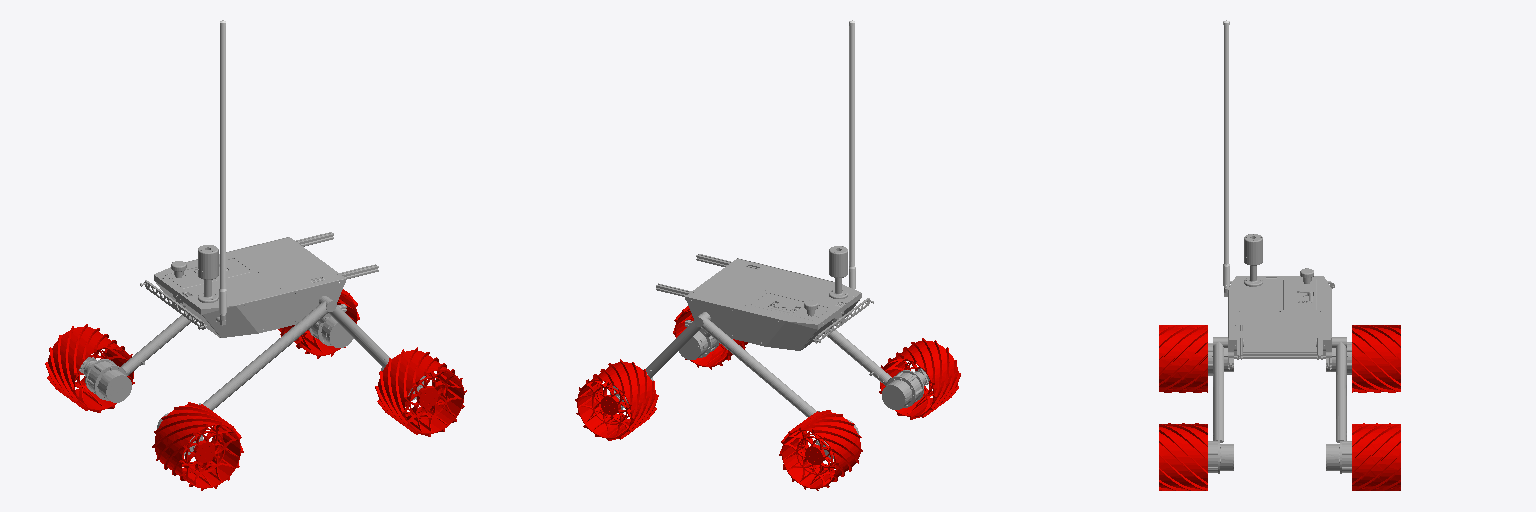
URDF robot description (kanga_core):
<?xml version="1.0" ?>
<!-- Generated using onshape-to-robot -->
<!-- Onshape https://tronsoc.onshape.com/documents/05c6ea0db3db2c3eaa2cd796/w/7af9416258b5cd82f658c621/e/713b4d5f072e950d70de1171 -->
<robot name="kanga_core">
  <!-- Link antenna -->
  <link name="antenna">
    <inertial>
      <origin xyz="-0.0805841 -0.0158605 0.124198" rpy="0 0 0"/>
      <mass value="8.4"/>
      <inertia ixx="0.334932" ixy="-0.0282303" ixz="0.0776441" iyy="0.445283" iyz="0.0534754" izz="0.396654"/>
    </inertial>
    <!-- Part core -->
    <visual>
      <origin xyz="-0.0406693 -0 0" rpy="0 0 1.5708"/>
      <geometry>
        <mesh filename="package://kanga_description/assets_kanga_core/core.stl"/>
      </geometry>
      <material name="core_material">
        <color rgba="0.701961 0.701961 0.701961 1"/>
      </material>
    </visual>
    <collision>
      <origin xyz="-0.0406693 -0 0" rpy="0 0 1.5708"/>
      <geometry>
        <mesh filename="package://kanga_description/assets_kanga_core/core.stl"/>
      </geometry>
    </collision>
    <!-- Part antenna -->
    <visual>
      <origin xyz="-0.0406693 0 -0" rpy="0 -0 1.5708"/>
      <geometry>
        <mesh filename="package://kanga_description/assets_kanga_core/antenna.stl"/>
      </geometry>
      <material name="antenna_material">
        <color rgba="0.901961 0.901961 0.901961 1"/>
      </material>
    </visual>
    <collision>
      <origin xyz="-0.0406693 0 -0" rpy="0 -0 1.5708"/>
      <geometry>
        <mesh filename="package://kanga_description/assets_kanga_core/antenna.stl"/>
      </geometry>
    </collision>
  </link>
  <!-- Frame top_payload_mount (dummy link + fixed joint) -->
  <link name="top_payload_mount">
    <origin xyz="0 0 0" rpy="0 -0 0"/>
    <inertial>
      <origin xyz="0 0 0" rpy="0 0 0"/>
      <mass value="1e-9"/>
      <inertia ixx="0" ixy="0" ixz="0" iyy="0" iyz="0" izz="0"/>
    </inertial>
  </link>
  <joint name="top_payload_mount_frame" type="fixed">
    <origin xyz="0.379844 -0.1575 0.1216" rpy="-0 0 0"/>
    <parent link="antenna"/>
    <child link="top_payload_mount"/>
    <axis xyz="0 0 0"/>
  </joint>
  <!-- Frame front_payload_mount (dummy link + fixed joint) -->
  <link name="front_payload_mount">
    <origin xyz="0 0 0" rpy="0 -0 0"/>
    <inertial>
      <origin xyz="0 0 0" rpy="0 0 0"/>
      <mass value="1e-9"/>
      <inertia ixx="0" ixy="0" ixz="0" iyy="0" iyz="0" izz="0"/>
    </inertial>
  </link>
  <joint name="front_payload_mount_frame" type="fixed">
    <origin xyz="0.158499 -0 0.0116" rpy="0 0 0"/>
    <parent link="antenna"/>
    <child link="front_payload_mount"/>
    <axis xyz="0 0 0"/>
  </joint>
  <!-- Link left_suspension -->
  <link name="left_suspension">
    <inertial>
      <origin xyz="-0.132214 -0.267383 -0.0630324" rpy="0 0 0"/>
      <mass value="9"/>
      <inertia ixx="0.143475" ixy="-0.0477444" ixz="-0.00738433" iyy="1.29898" iyz="-0.0240894" izz="1.38116"/>
    </inertial>
    <!-- Part left_suspension -->
    <visual>
      <origin xyz="-0.189168 -0.0616 0.1911" rpy="-1.5708 1.5708 0"/>
      <geometry>
        <mesh filename="package://kanga_description/assets_kanga_core/left_suspension.stl"/>
      </geometry>
      <material name="left_suspension_material">
        <color rgba="0.701961 0.701961 0.701961 1"/>
      </material>
    </visual>
    <collision>
      <origin xyz="-0.189168 -0.0616 0.1911" rpy="-1.5708 1.5708 0"/>
      <geometry>
        <mesh filename="package://kanga_description/assets_kanga_core/left_suspension.stl"/>
      </geometry>
    </collision>
  </link>
  <!-- Link wheelb -->
  <link name="wheelb">
    <inertial>
      <origin xyz="8.20141e-07 4.19108e-07 0.0294338" rpy="0 0 0"/>
      <mass value="0.7"/>
      <inertia ixx="0.00536519" ixy="2.6367e-08" ixz="3.55462e-07" iyy="0.00536521" iyz="7.378e-09" izz="0.00759451"/>
    </inertial>
    <!-- Part wheelb -->
    <visual>
      <origin xyz="0 0 -0.05" rpy="-1.5708 0 0"/>
      <geometry>
        <mesh filename="package://kanga_description/assets_kanga_core/wheelb.stl"/>
      </geometry>
      <material name="wheelb_material">
        <color rgba="0.929412 0.0392157 0 1"/>
      </material>
    </visual>
    <collision>
      <origin xyz="0 0 -0.05" rpy="-1.5708 0 0"/>
      <geometry>
        <mesh filename="package://kanga_description/assets_kanga_core/wheelb.stl"/>
      </geometry>
    </collision>
  </link>
  <!-- Joint from left_suspension to wheelb -->
  <joint name="wheel_fl" type="continuous">
    <origin xyz="0.279914 -0.333589 -0.204675" rpy="0 -0 -0"/>
    <parent link="left_suspension"/>
    <child link="wheelb"/>
    <axis xyz="0 0 1"/>
    <limit effort="0" velocity="0"/>
  </joint>
  <!-- Link wheel_a -->
  <link name="wheel_a">
    <inertial>
      <origin xyz="1.69548e-06 -4.25166e-07 0.0294802" rpy="0 0 0"/>
      <mass value="0.7"/>
      <inertia ixx="0.0053658" ixy="2.7862e-08" ixz="3.79976e-07" iyy="0.00536582" iyz="-5.263e-09" izz="0.00759416"/>
    </inertial>
    <!-- Part wheel_a -->
    <visual>
      <origin xyz="0 0 -0.05" rpy="-1.5708 -0 -0"/>
      <geometry>
        <mesh filename="package://kanga_description/assets_kanga_core/wheel_a.stl"/>
      </geometry>
      <material name="wheel_a_material">
        <color rgba="0.929412 0.0392157 0 1"/>
      </material>
    </visual>
    <collision>
      <origin xyz="0 0 -0.05" rpy="-1.5708 -0 -0"/>
      <geometry>
        <mesh filename="package://kanga_description/assets_kanga_core/wheel_a.stl"/>
      </geometry>
    </collision>
  </link>
  <!-- Joint from left_suspension to wheel_a -->
  <joint name="wheel_bl" type="continuous">
    <origin xyz="-0.578642 -0.334079 -0.204675" rpy="-0 -0 0"/>
    <parent link="left_suspension"/>
    <child link="wheel_a"/>
    <axis xyz="0 0 1"/>
    <limit effort="0" velocity="0" lower="0" upper="0"/>
  </joint>
  <!-- Joint from antenna to left_suspension -->
  <joint name="left_suspension" type="revolute">
    <origin xyz="0.148499 0.1911 0.0616" rpy="1.5708 0 0"/>
    <parent link="antenna"/>
    <child link="left_suspension"/>
    <axis xyz="0 0 1"/>
    <limit effort="0" velocity="0" lower="0" upper="0"/>
  </joint>
  <!-- Link right_suspension -->
  <link name="right_suspension">
    <inertial>
      <origin xyz="0.134107 -0.26778 -0.0627896" rpy="0 0 0"/>
      <mass value="9"/>
      <inertia ixx="0.143252" ixy="0.0492184" ixz="0.00651663" iyy="1.30123" iyz="-0.0237955" izz="1.38328"/>
    </inertial>
    <!-- Part right_suspension -->
    <visual>
      <origin xyz="0.189168 -0.0616 0.1911" rpy="-1.5708 -1.5708 0"/>
      <geometry>
        <mesh filename="package://kanga_description/assets_kanga_core/right_suspension.stl"/>
      </geometry>
      <material name="right_suspension_material">
        <color rgba="0.701961 0.701961 0.701961 1"/>
      </material>
    </visual>
    <collision>
      <origin xyz="0.189168 -0.0616 0.1911" rpy="-1.5708 -1.5708 0"/>
      <geometry>
        <mesh filename="package://kanga_description/assets_kanga_core/right_suspension.stl"/>
      </geometry>
    </collision>
  </link>
  <!-- Link wheel_a_2 -->
  <link name="wheel_a_2">
    <inertial>
      <origin xyz="1.69548e-06 -4.25166e-07 0.0294802" rpy="0 0 0"/>
      <mass value="0.7"/>
      <inertia ixx="0.0053658" ixy="2.7862e-08" ixz="3.79976e-07" iyy="0.00536582" iyz="-5.263e-09" izz="0.00759416"/>
    </inertial>
    <!-- Part wheel_a_2 -->
    <visual>
      <origin xyz="0 0 -0.05" rpy="-1.5708 0 0"/>
      <geometry>
        <mesh filename="package://kanga_description/assets_kanga_core/wheel_a.stl"/>
      </geometry>
      <material name="wheel_a_2_material">
        <color rgba="0.929412 0.0392157 0 1"/>
      </material>
    </visual>
    <collision>
      <origin xyz="0 0 -0.05" rpy="-1.5708 0 0"/>
      <geometry>
        <mesh filename="package://kanga_description/assets_kanga_core/wheel_a.stl"/>
      </geometry>
    </collision>
  </link>
  <!-- Joint from right_suspension to wheel_a_2 -->
  <joint name="wheel_fr" type="continuous">
    <origin xyz="-0.279914 -0.333589 -0.204625" rpy="0 -0 -0"/>
    <parent link="right_suspension"/>
    <child link="wheel_a_2"/>
    <axis xyz="0 0 1"/>
    <limit effort="0" velocity="0"/>
  </joint>
  <!-- Link wheelb_2 -->
  <link name="wheelb_2">
    <inertial>
      <origin xyz="8.20141e-07 4.19108e-07 0.0294338" rpy="0 0 0"/>
      <mass value="0.7"/>
      <inertia ixx="0.00536519" ixy="2.6367e-08" ixz="3.55462e-07" iyy="0.00536521" iyz="7.378e-09" izz="0.00759451"/>
    </inertial>
    <!-- Part wheelb_2 -->
    <visual>
      <origin xyz="0 0 -0.05" rpy="-1.5708 -0 0"/>
      <geometry>
        <mesh filename="package://kanga_description/assets_kanga_core/wheelb.stl"/>
      </geometry>
      <material name="wheelb_2_material">
        <color rgba="0.929412 0.0392157 0 1"/>
      </material>
    </visual>
    <collision>
      <origin xyz="0 0 -0.05" rpy="-1.5708 -0 0"/>
      <geometry>
        <mesh filename="package://kanga_description/assets_kanga_core/wheelb.stl"/>
      </geometry>
    </collision>
  </link>
  <!-- Joint from right_suspension to wheelb_2 -->
  <joint name="wheel_br" type="continuous">
    <origin xyz="0.578642 -0.334079 -0.204625" rpy="-0 -0 0"/>
    <parent link="right_suspension"/>
    <child link="wheelb_2"/>
    <axis xyz="0 0 1"/>
    <limit effort="0" velocity="0"/>
  </joint>
  <!-- Joint from antenna to right_suspension -->
  <joint name="right_suspension" type="revolute">
    <origin xyz="0.148499 -0.1911 0.0616" rpy="1.5708 -0 -3.14159"/>
    <parent link="antenna"/>
    <child link="right_suspension"/>
    <axis xyz="0 0 1"/>
    <limit effort="0" velocity="0" lower="0" upper="0"/>
  </joint>
  <!-- Link diff_bar -->
  <link name="diff_bar">
    <inertial>
      <origin xyz="-0 0.00376465 -0.00953053" rpy="0 0 0"/>
      <mass value="0.4"/>
      <inertia ixx="8.38592e-05" ixy="-0" ixz="-0" iyy="0.00473068" iyz="1.00357e-05" izz="0.00472925"/>
    </inertial>
    <!-- Part diff_bar -->
    <visual>
      <origin xyz="-0 -0.0766 0.260486" rpy="-1.5708 -0 -0"/>
      <geometry>
        <mesh filename="package://kanga_description/assets_kanga_core/diff_bar.stl"/>
      </geometry>
      <material name="diff_bar_material">
        <color rgba="0.701961 0.701961 0.701961 1"/>
      </material>
    </visual>
    <collision>
      <origin xyz="-0 -0.0766 0.260486" rpy="-1.5708 -0 -0"/>
      <geometry>
        <mesh filename="package://kanga_description/assets_kanga_core/diff_bar.stl"/>
      </geometry>
    </collision>
  </link>
  <!-- Joint from antenna to diff_bar -->
  <joint name="diff_bar" type="revolute">
    <origin xyz="-0.301156 0 0.0766" rpy="1.5708 0 1.5708"/>
    <parent link="antenna"/>
    <child link="diff_bar"/>
    <axis xyz="0 0 1"/>
    <limit effort="0" velocity="0" lower="0" upper="0"/>
  </joint>
</robot>

--- Facts derived from the render (not from the file) ---
The picture shows the robot from 3 angles, left to right: view 1: azimuth 30°, elevation 25°; view 2: azimuth 150°, elevation 25°; view 3: azimuth 270°, elevation 25°; orthographic projection.
Robot: kanga_core — 10 links, 9 joints (3 revolute, 4 continuous, 2 fixed); root link antenna; default pose: all joints at 0.
Links seen in each view (by area): view 1: antenna, wheelb_2, wheel_a_2, wheel_a, left_suspension, right_suspension, wheelb; view 2: antenna, wheelb, wheel_a, wheelb_2, right_suspension, left_suspension, wheel_a_2; view 3: antenna, wheel_a, wheelb_2, wheel_a_2, wheelb, left_suspension, right_suspension.
Link boxes in pixels (<box>): antenna: <box>154,20,378,337</box>; wheelb_2: <box>152,402,243,490</box>; wheel_a_2: <box>375,347,466,436</box>; wheel_a: <box>45,324,134,412</box>; left_suspension: <box>79,313,353,402</box>; right_suspension: <box>157,296,425,455</box>; wheelb: <box>278,289,359,358</box>; antenna: <box>656,20,861,350</box>; wheelb: <box>575,359,658,440</box>; wheel_a: <box>779,410,862,490</box>; wheelb_2: <box>879,338,960,419</box>; right_suspension: <box>679,329,929,409</box>; left_suspension: <box>610,312,858,460</box>; wheel_a_2: <box>673,306,747,369</box>; antenna: <box>1223,20,1331,367</box>; wheel_a: <box>1352,325,1400,392</box>; wheelb_2: <box>1159,325,1207,392</box>; wheel_a_2: <box>1159,423,1207,490</box>; wheelb: <box>1352,423,1400,490</box>; left_suspension: <box>1316,337,1351,473</box>; right_suspension: <box>1208,337,1243,473</box>.
Bounding box of the posed robot: 1.11 × 0.8915 × 1.58 m (x, y, z).
Meshes: 7 distinct files referenced, 9 mesh visuals loaded (7 binary STL).
